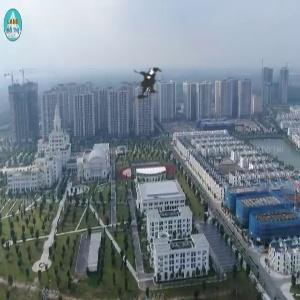drone: (89, 18, 212, 141)
